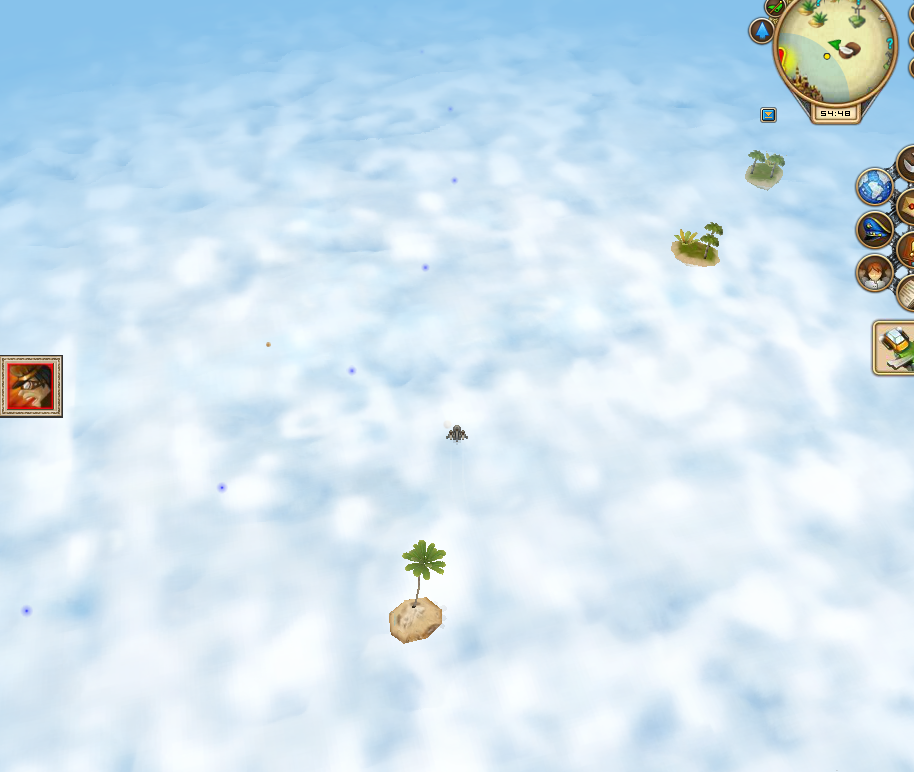palm: (383, 537, 454, 646)
